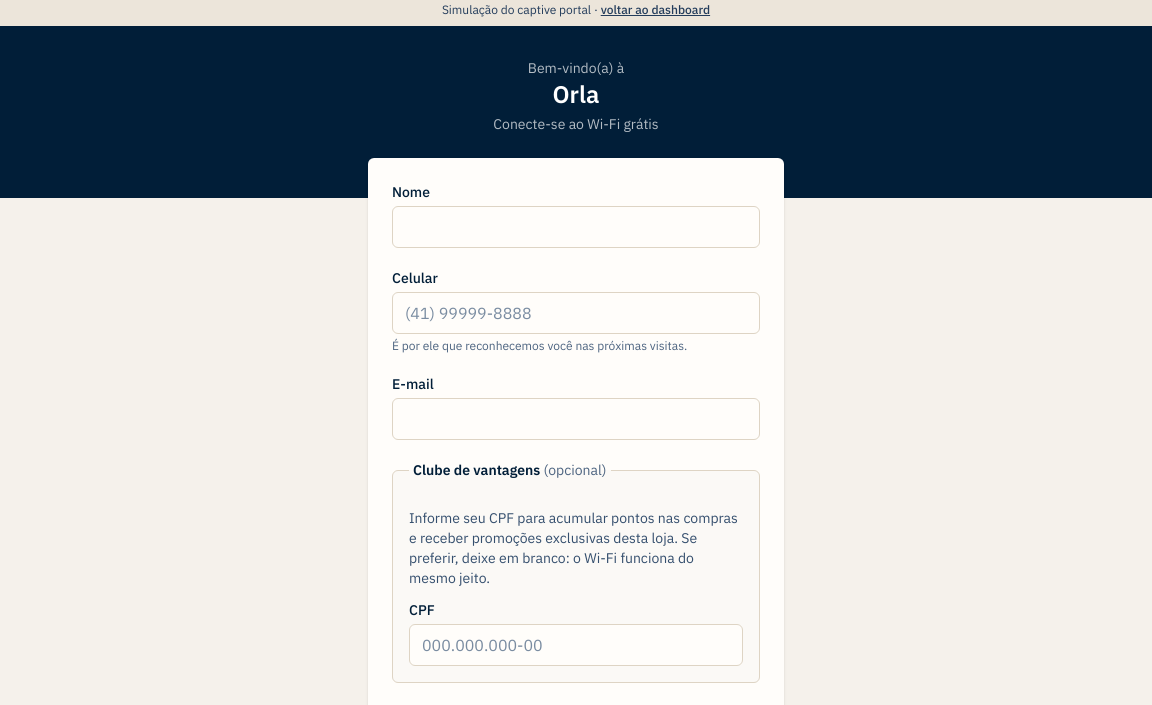
Test: CaptivePortalPage › valida antes de enviar: celular e termos
Type "Maria Souza" into the field labelled "Nome". click: (576, 227)
box: [392, 206, 760, 248]
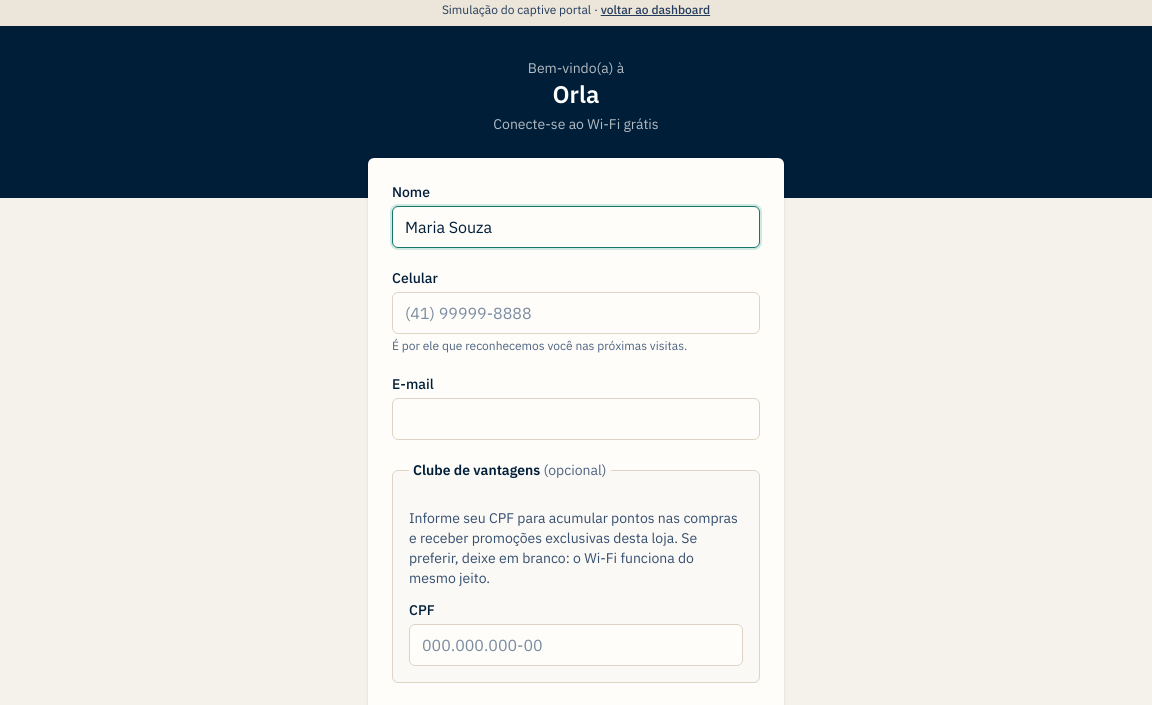
Type "(41) 3333-4444" into the field labelled "Celular". click: (576, 313)
box: [392, 292, 760, 334]
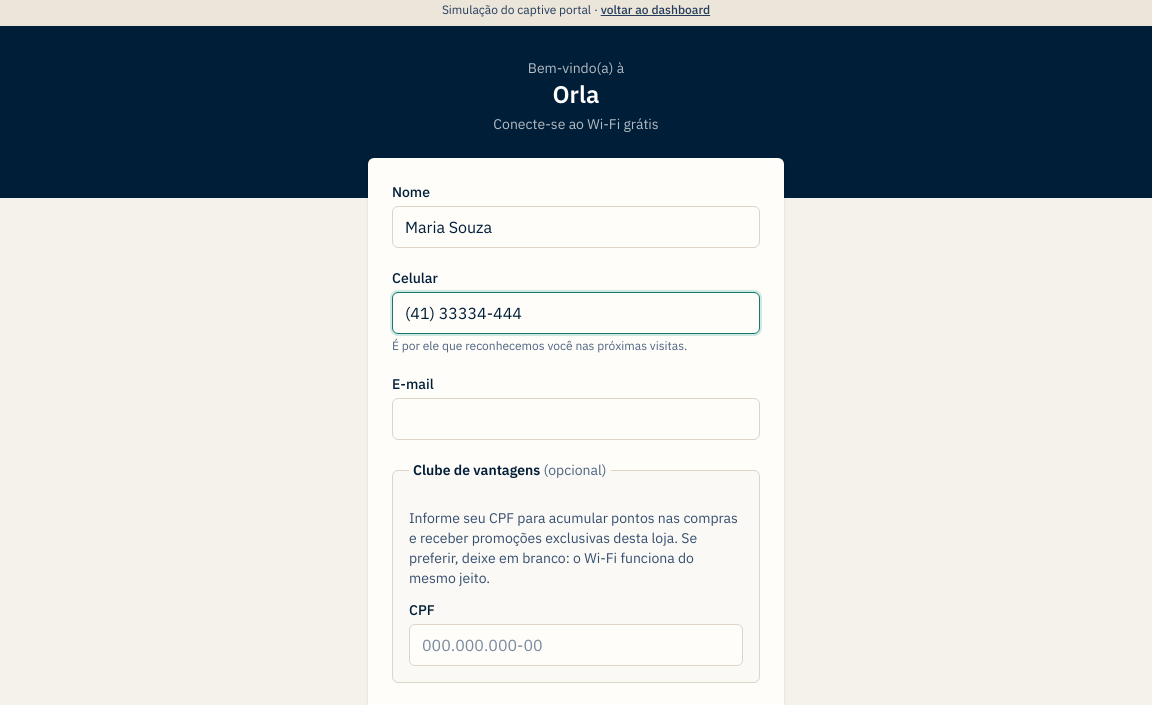
Type "maria@email.com" into the field labelled "E-mail". click: (576, 419)
box: [392, 398, 760, 440]
(page scrolled)
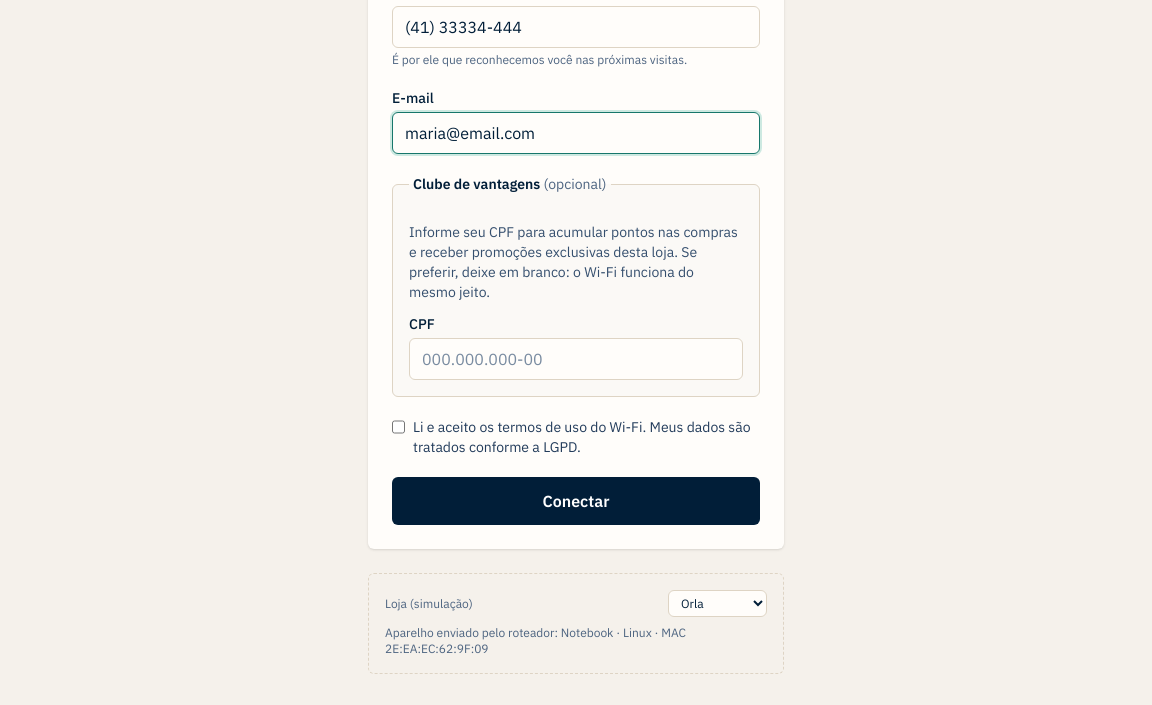
Click the button "Conectar". click: (576, 501)
box: [392, 477, 760, 525]
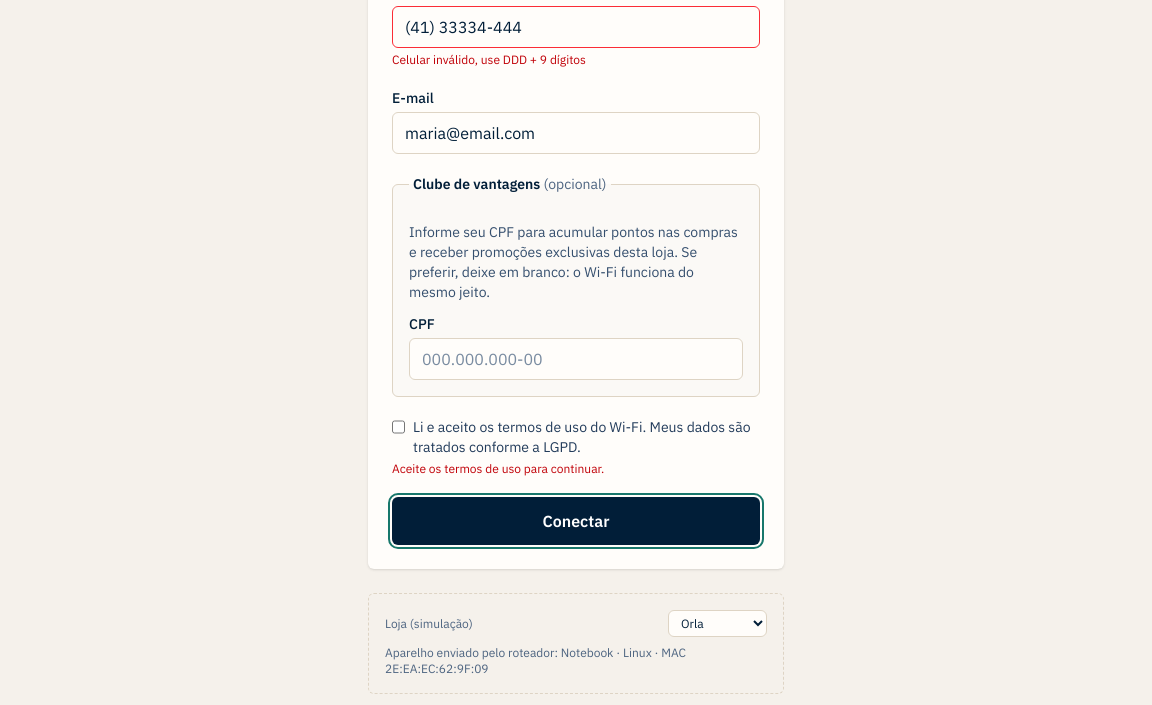
Now the text "Celular inválido, use DDD + 9 dígitos" is shown, box [392, 52, 586, 67]
Now the text "Aceite os termos de uso para continuar." is shown, box [392, 461, 604, 476]
